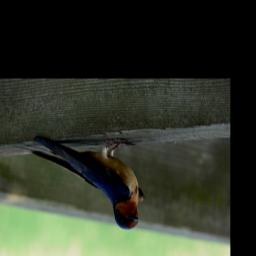Swallow: (12, 134, 146, 232)
